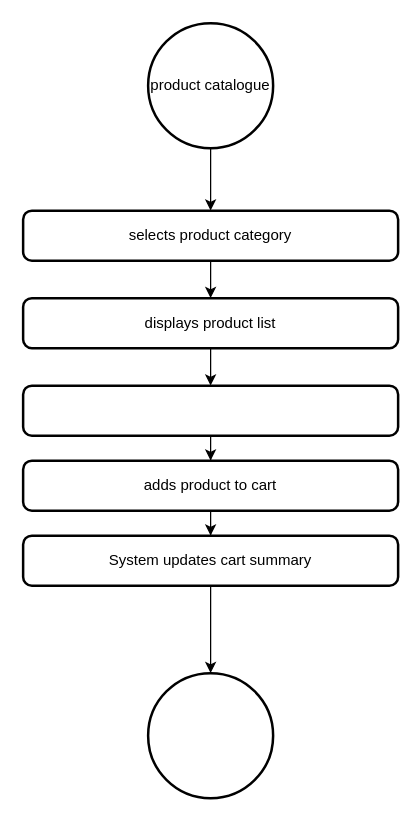
Some shapes in this 420 by 820 pixel diagram are drawn without their labels. Here are the shapes that lost their labels. From the top down, the centre of each, then its label:
At (210,410): "selects a product".
At (210,735): "End".
